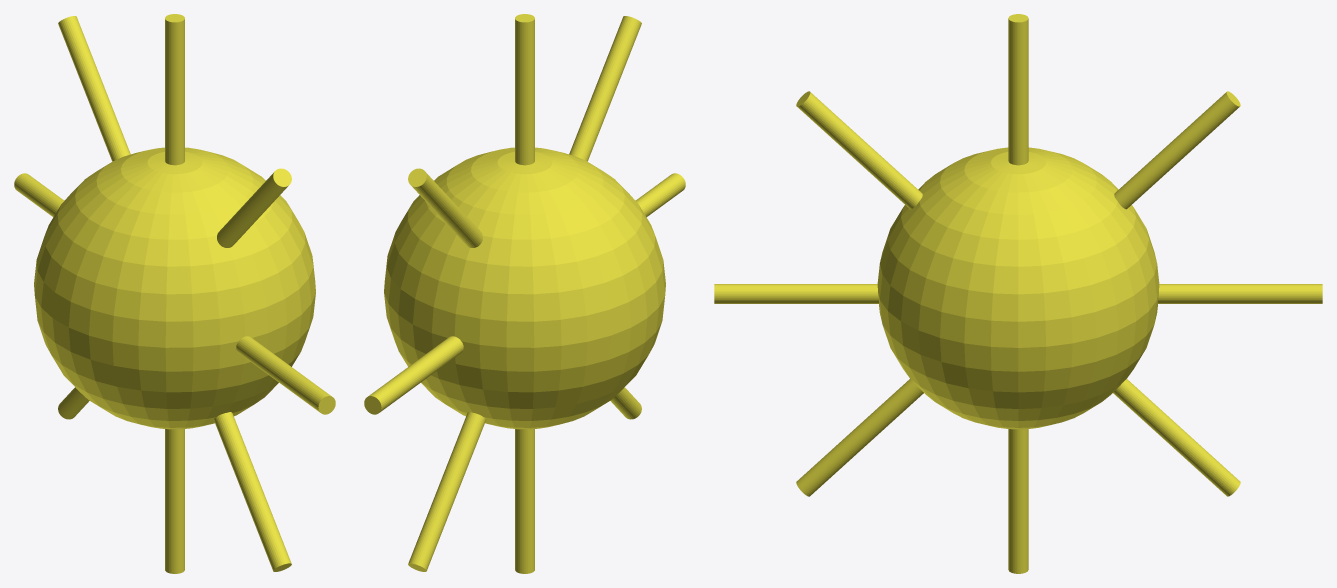
File: Sun.fbx
The picture shows the model from 3 angles, left to right: view 1: azimuth 30°, elevation 25°; view 2: azimuth 150°, elevation 25°; view 3: azimuth 270°, elevation 25°; orthographic projection.
Parts seen in each view (by area): view 1: Cylinder.001; view 2: Cylinder.001; view 3: Cylinder.001.
Boxes of the visible parts, x1=… form: Cylinder.001: x1=14, y1=14, x2=335, y2=573; Cylinder.001: x1=364, y1=14, x2=685, y2=573; Cylinder.001: x1=714, y1=14, x2=1322, y2=573.
Size of the model in its own units: 200 by 430 by 430.
